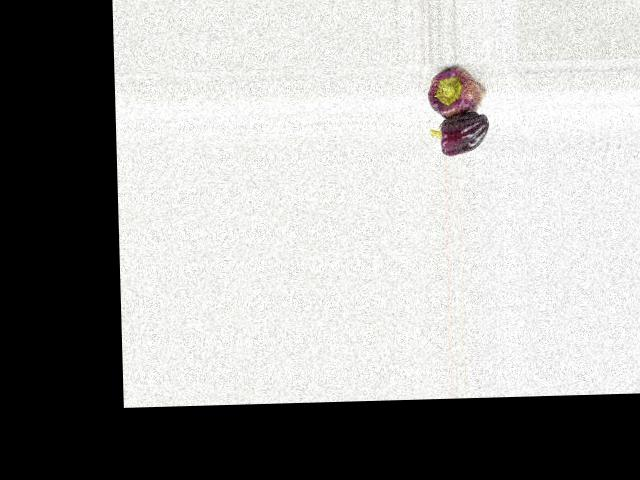bell_pepper: (415, 63, 497, 120)
